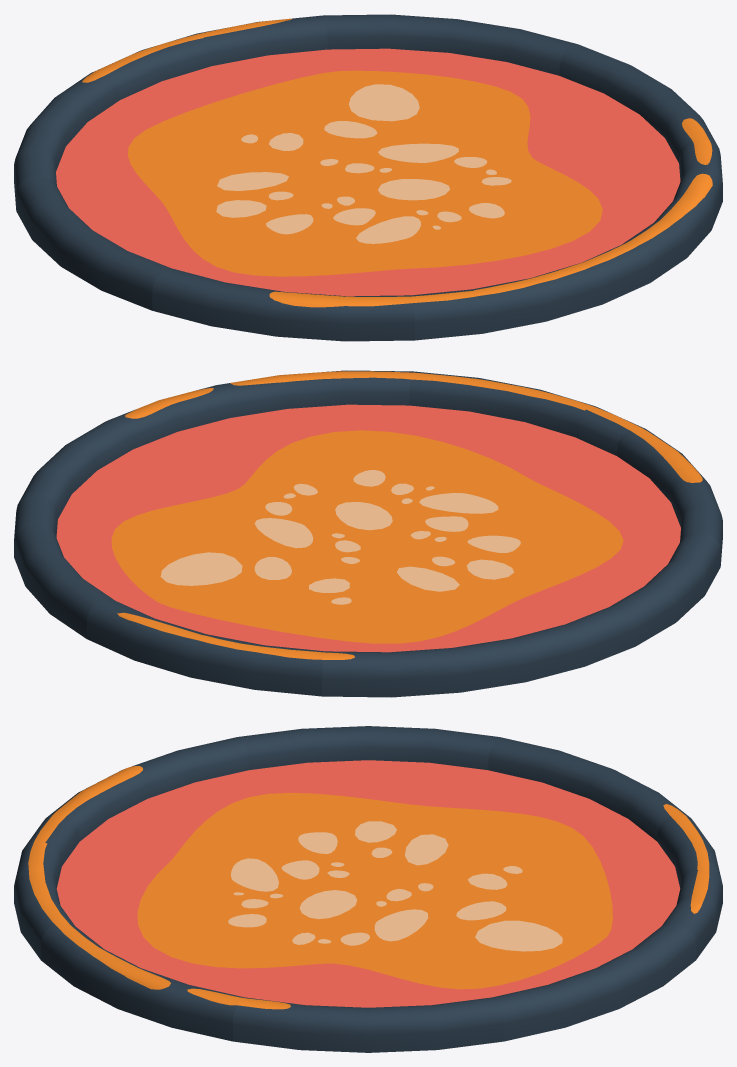
Rendered from Dough  Ketchup B.fbx.
The picture shows the model from 3 angles, top to bottom: view 1: azimuth 30°, elevation 25°; view 2: azimuth 150°, elevation 25°; view 3: azimuth 270°, elevation 25°; orthographic projection.
Parts seen in each view (by area): view 1: Dough.095, Dough.091, Dough.094, Dough.090, Dough.096, Dough.092, Dough.093, Dough.097; view 2: Dough.097, Dough.093, Dough.090, Dough.094, Dough.096, Dough.092, Dough.091, Dough.095; view 3: Dough.096, Dough.092, Dough.091, Dough.093, Dough.095, Dough.097, Dough.090, Dough.094.
Part boxes in pixels (box(x1,y1,x2,y2)): Dough.095: box(152, 181, 414, 341); Dough.091: box(323, 14, 577, 180); Dough.094: box(368, 181, 650, 340); Dough.090: box(96, 15, 368, 180); Dough.096: box(16, 176, 367, 310); Dough.092: box(369, 44, 718, 180); Dough.093: box(369, 140, 722, 282); Dough.097: box(14, 71, 367, 209); Dough.097: box(322, 537, 584, 697); Dough.093: box(159, 370, 413, 536); Dough.090: box(86, 537, 368, 696); Dough.094: box(368, 371, 640, 536); Dough.096: box(369, 532, 720, 666); Dough.092: box(18, 400, 367, 536); Dough.091: box(14, 496, 367, 638); Dough.095: box(369, 427, 722, 565); Dough.096: box(237, 726, 499, 891); Dough.092: box(233, 892, 503, 1052); Dough.091: box(369, 892, 695, 1041); Dough.093: box(41, 892, 367, 1041); Dough.095: box(46, 737, 367, 891); Dough.097: box(369, 737, 690, 891); Dough.090: box(369, 815, 722, 959); Dough.094: box(14, 815, 367, 959).
Size of the model in its own units: 2 by 0.1032 by 2.
